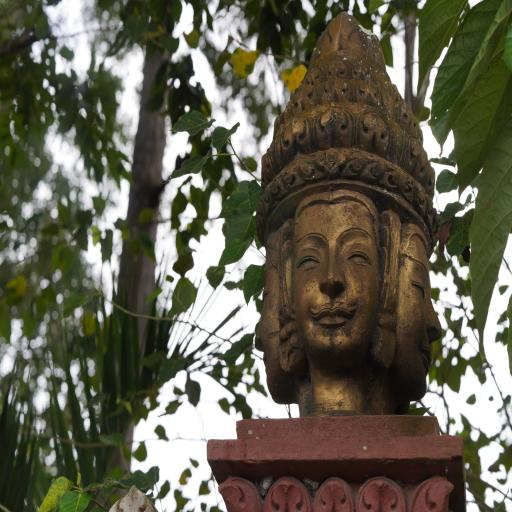la: (356, 468, 408, 512), (310, 463, 353, 512), (406, 470, 452, 512), (212, 475, 263, 512), (263, 475, 311, 512)
than: (234, 4, 446, 420)
